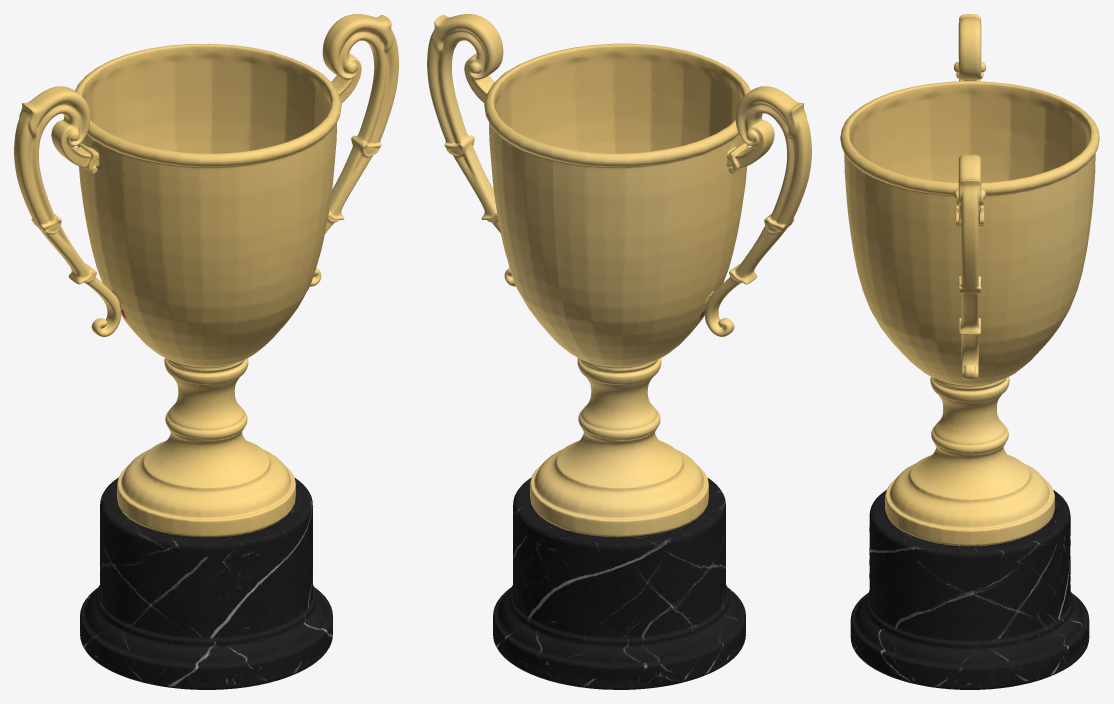
The model's file is unity-trophy.glb.
3 renders of one model, left to right at view 1: azimuth 30°, elevation 25°; view 2: azimuth 150°, elevation 25°; view 3: azimuth 270°, elevation 25°, orthographic. The views are drawn at different scales.
Bounding box in the file's own units: 1.29 × 1.9 × 0.809.
1 material, 1 textured.
